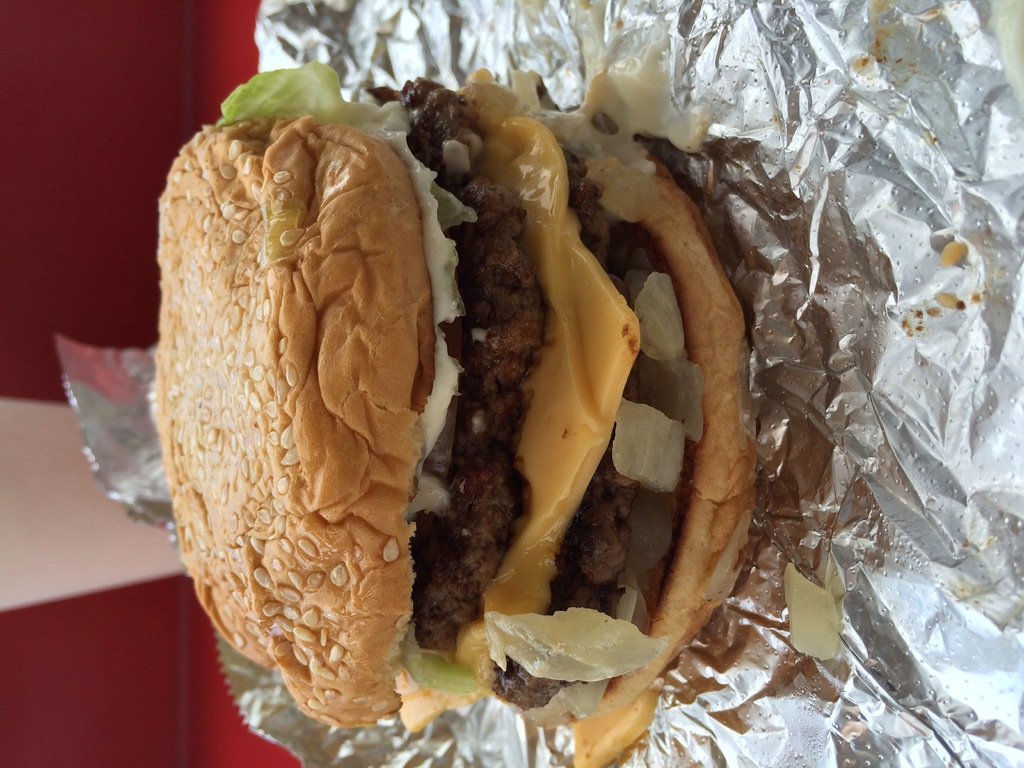Hamburger: (152, 60, 752, 767)
